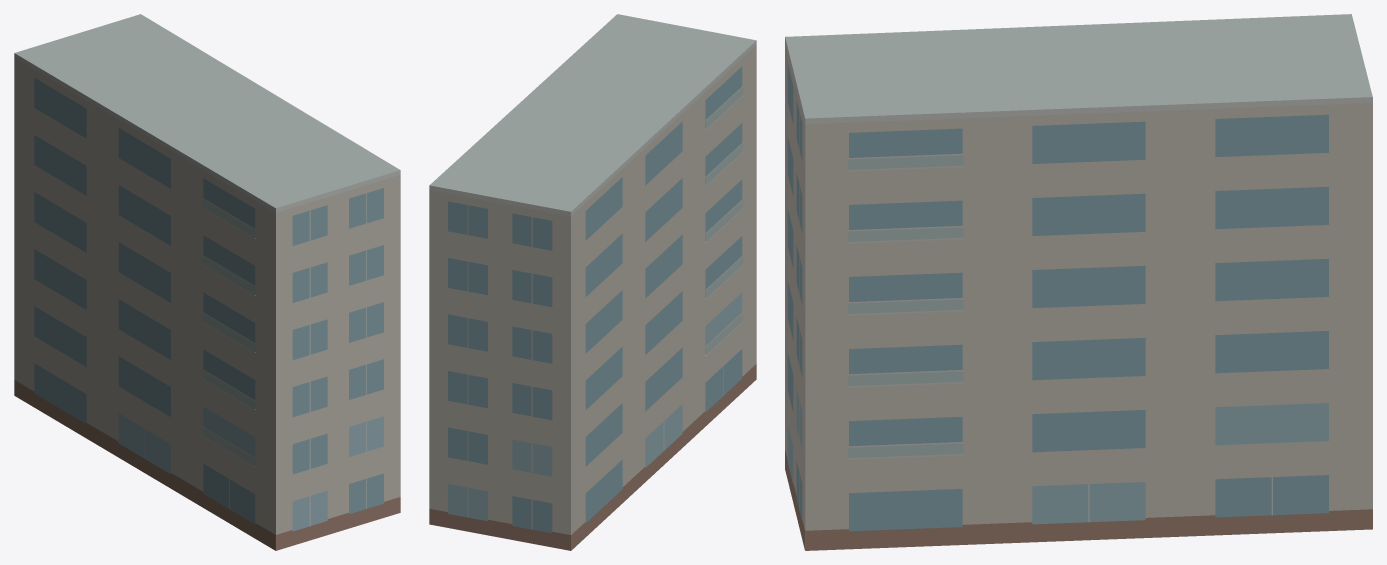
File: survey-upis-33013447.glb
3 views of the same model, side by side, from view 1: azimuth 30°, elevation 25°; view 2: azimuth 150°, elevation 25°; view 3: azimuth 270°, elevation 25° (orthographic). The views are drawn at different scales.
Visible parts, largest first — view 1: survey-upis-33013447.tmp; view 2: survey-upis-33013447.tmp; view 3: survey-upis-33013447.tmp.
Part boxes in pixels (x1,y1,x2,y2): survey-upis-33013447.tmp: (14,14,400,550); survey-upis-33013447.tmp: (429,14,756,550); survey-upis-33013447.tmp: (785,14,1372,550).
Size of the model in its own units: 9.5 by 18.3 by 22.56.
